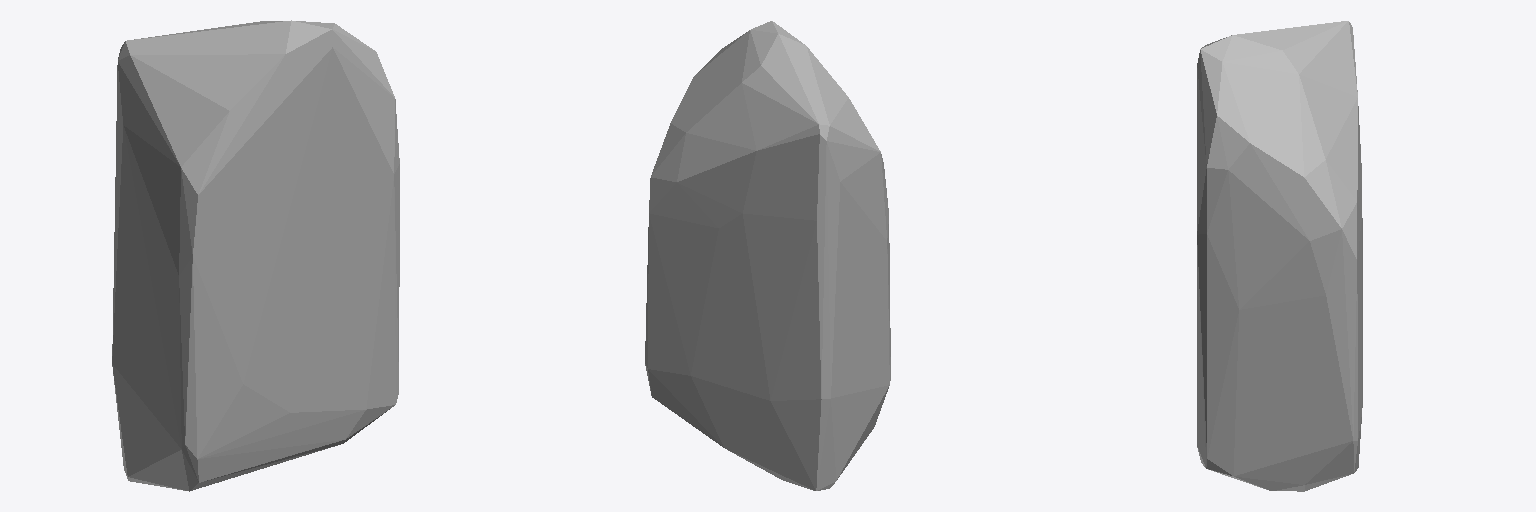
The robot description file, URDF, robot "root":
<robot name="root">
  <link name="link_rock24_convex_piece_0">
    <inertial>
      <origin rpy="0 0 0" xyz="0 0 0"/>
      <mass value="1.09E+06"/>
      <inertia ixx="1.73E+09" ixy="1.14E+08" ixz="-1.01E+09" iyy="1.27E+09" iyz="1.90E+08" izz="7.09E+08"/>
    </inertial>
    <visual>
      <origin rpy="0 0 0" xyz="0 0 0"/>
      <geometry>
        <mesh filename="rock24_convex_piece_0.obj" scale="1.0000E+00 1.0000E+00 1.0000E+00"/>
      </geometry>
      <material name="">
        <color rgba="7.50E-01 7.50E-01 7.50E-01 1"/>
      </material>
    </visual>
    <collision>
      <origin rpy="0 0 0" xyz="0 0 0"/>
      <geometry>
        <mesh filename="rock24_convex_piece_0.obj" scale="1.0000E+00 1.0000E+00 1.0000E+00"/>
      </geometry>
    </collision>
  </link>
</robot>

--- Facts derived from the render (not from the file) ---
3 views of the same robot in one strip: view 1: azimuth 30°, elevation 25°; view 2: azimuth 150°, elevation 25°; view 3: azimuth 270°, elevation 25° (orthographic).
Robot: root — 1 links, 0 joints (none); root link link_rock24_convex_piece_0; default pose: every joint at zero.
Visible links, largest first — view 1: link_rock24_convex_piece_0; view 2: link_rock24_convex_piece_0; view 3: link_rock24_convex_piece_0.
Boxes of the visible links, box(x1,y1,x2,y2) form: link_rock24_convex_piece_0: box(112, 20, 399, 491); link_rock24_convex_piece_0: box(645, 21, 890, 490); link_rock24_convex_piece_0: box(1197, 21, 1362, 491).
Size in the robot's own frame: 102 by 67.63 by 207 metres.
Meshes: 1 distinct files referenced, 1 mesh visuals loaded (1 OBJ).
